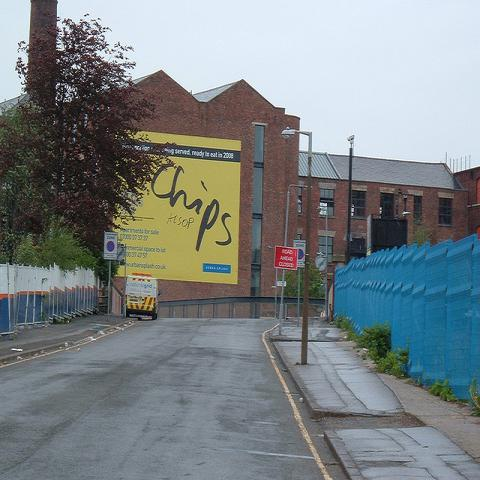truck: (126, 270, 158, 322)
